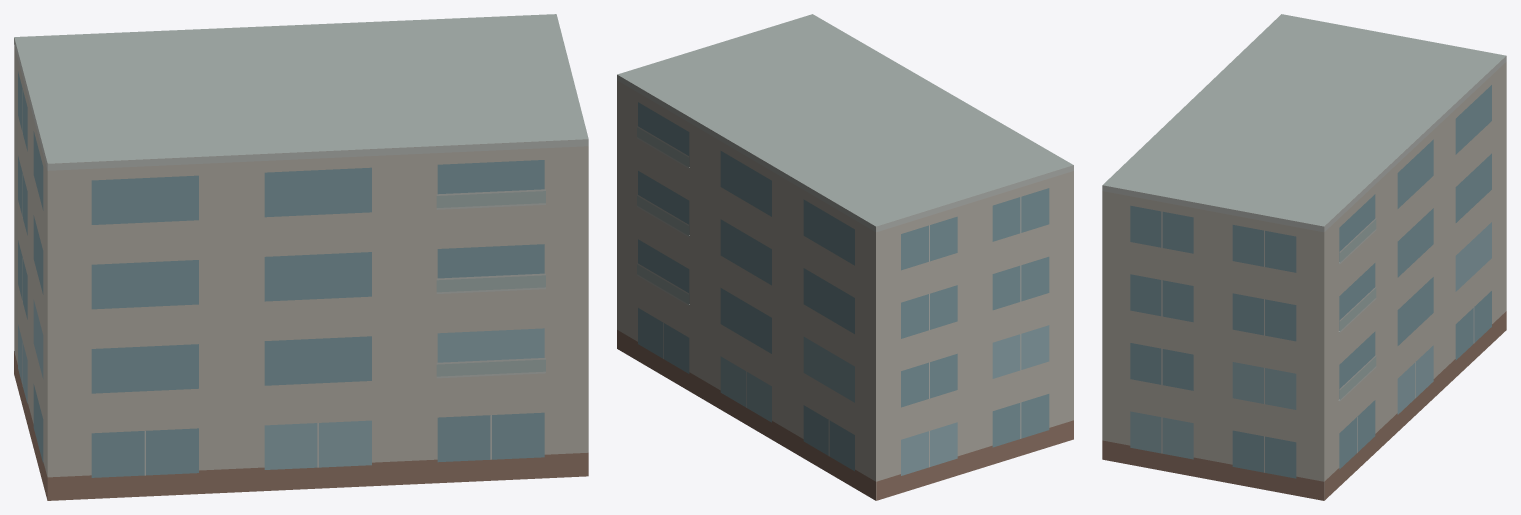
Rendered from survey-upis-32998785.glb.
3 views of the same model, side by side, from view 1: azimuth 30°, elevation 25°; view 2: azimuth 150°, elevation 25°; view 3: azimuth 270°, elevation 25° (orthographic). The views are drawn at different scales.
Parts seen in each view (by area): view 1: survey-upis-32998785.tmp; view 2: survey-upis-32998785.tmp; view 3: survey-upis-32998785.tmp.
Boxes of the visible parts, box(x1,y1,x2,y2) form: survey-upis-32998785.tmp: box(14, 14, 588, 500); survey-upis-32998785.tmp: box(617, 14, 1073, 500); survey-upis-32998785.tmp: box(1102, 14, 1506, 500).
Size of the model in its own units: 19.28 by 11.6 by 15.5.
